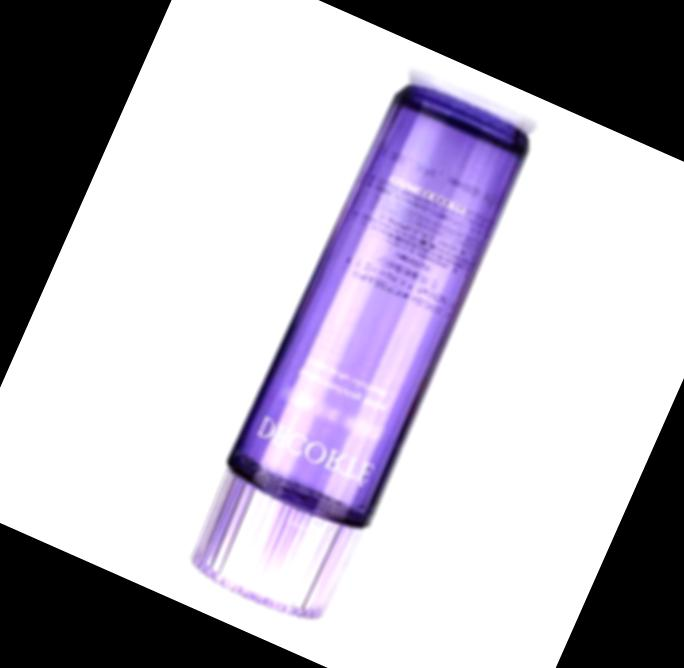cosmetic: (173, 68, 545, 628)
